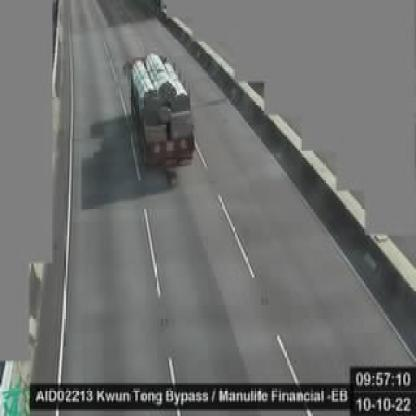Truck: (124, 53, 193, 174)
